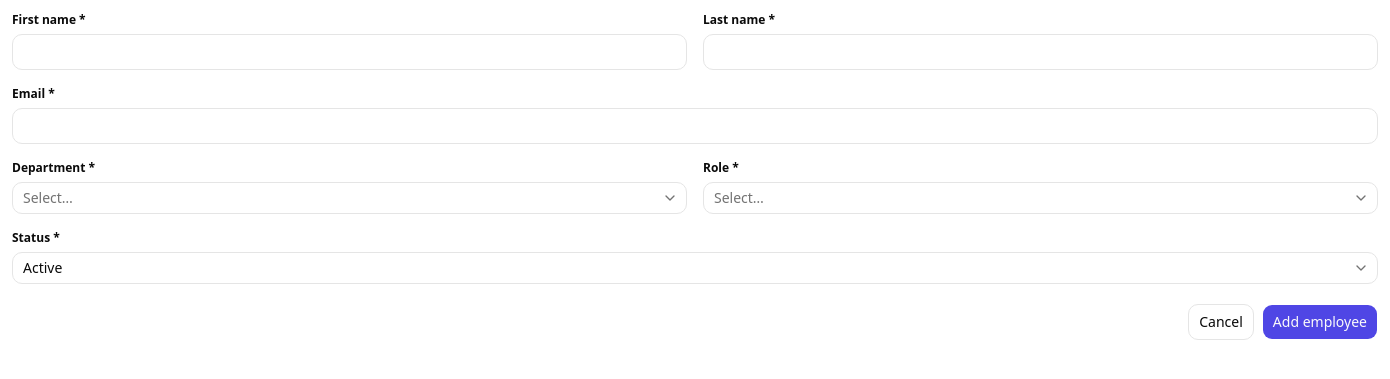
it: EmployeeForm › rejects an invalid name
In the field labelled "First name *": coordinates (350, 52) 12,34 -> 687,70, type "1234"
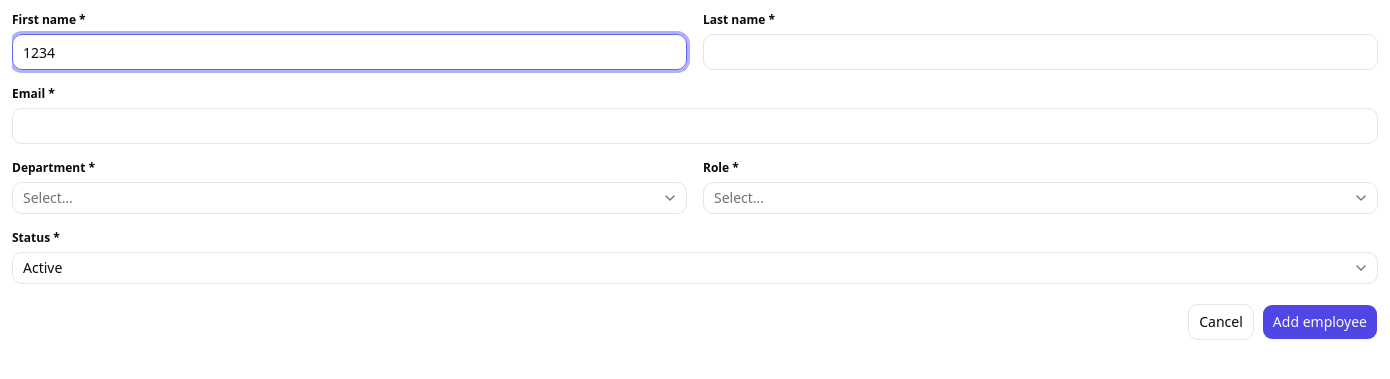
Press Tab
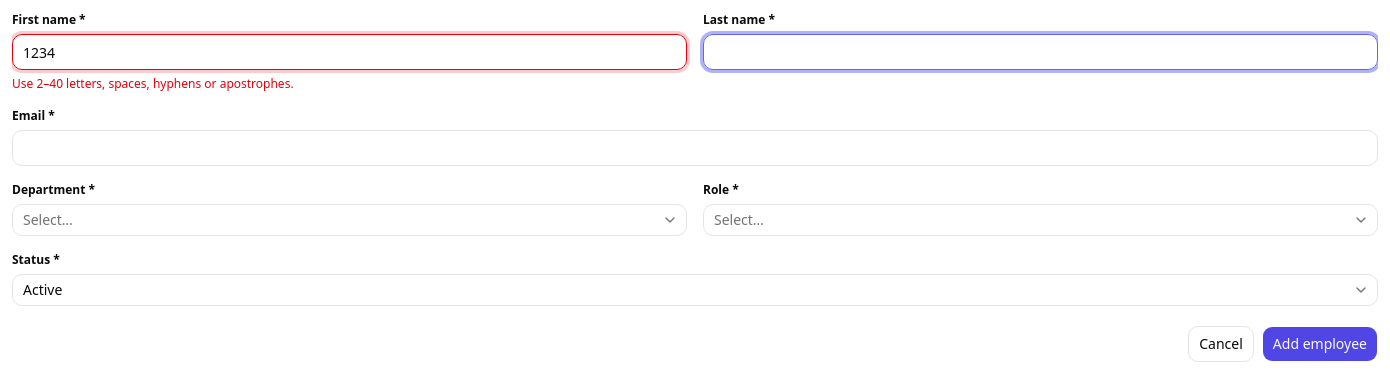
Expected: the text "Use 2–40 letters, spaces, hyphens or apostrophes." is shown, 12,75 -> 294,92
